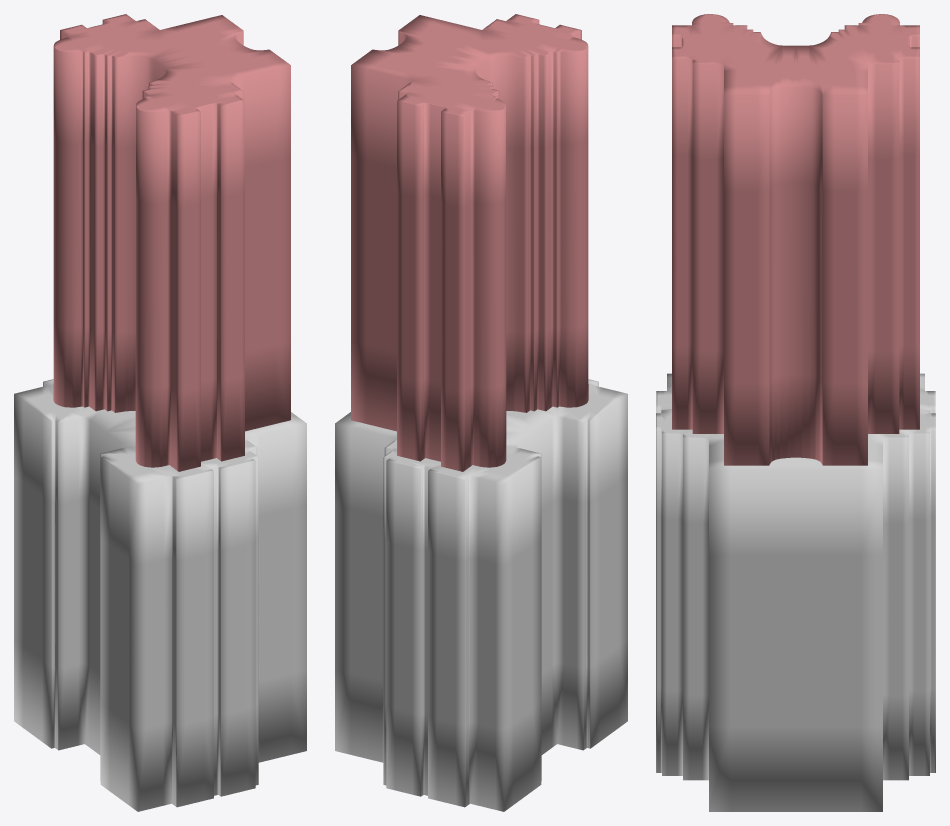
File: BigPillar.fbx
The picture shows the model from 3 angles, left to right: view 1: azimuth 30°, elevation 25°; view 2: azimuth 150°, elevation 25°; view 3: azimuth 270°, elevation 25°; orthographic projection. The views are drawn at different scales.
Parts seen in each view (by area): view 1: BigPillar; view 2: BigPillar; view 3: BigPillar.
Part boxes in pixels (<box>): BigPillar: <box>14,14,306,811</box>; BigPillar: <box>335,14,627,811</box>; BigPillar: <box>656,14,935,811</box>.
Size of the model in its own units: 3.96 by 13.66 by 4.87.
